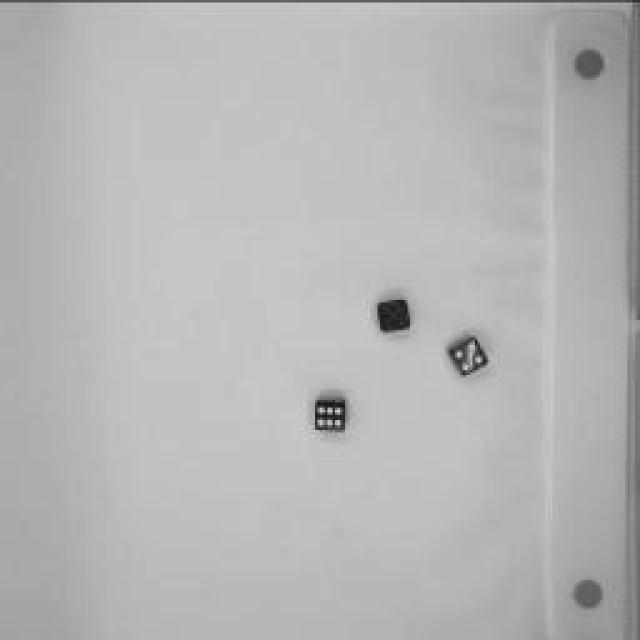dice_4: (445, 331, 497, 381)
dice_5: (371, 292, 419, 338)
dice_6: (307, 391, 355, 439)
